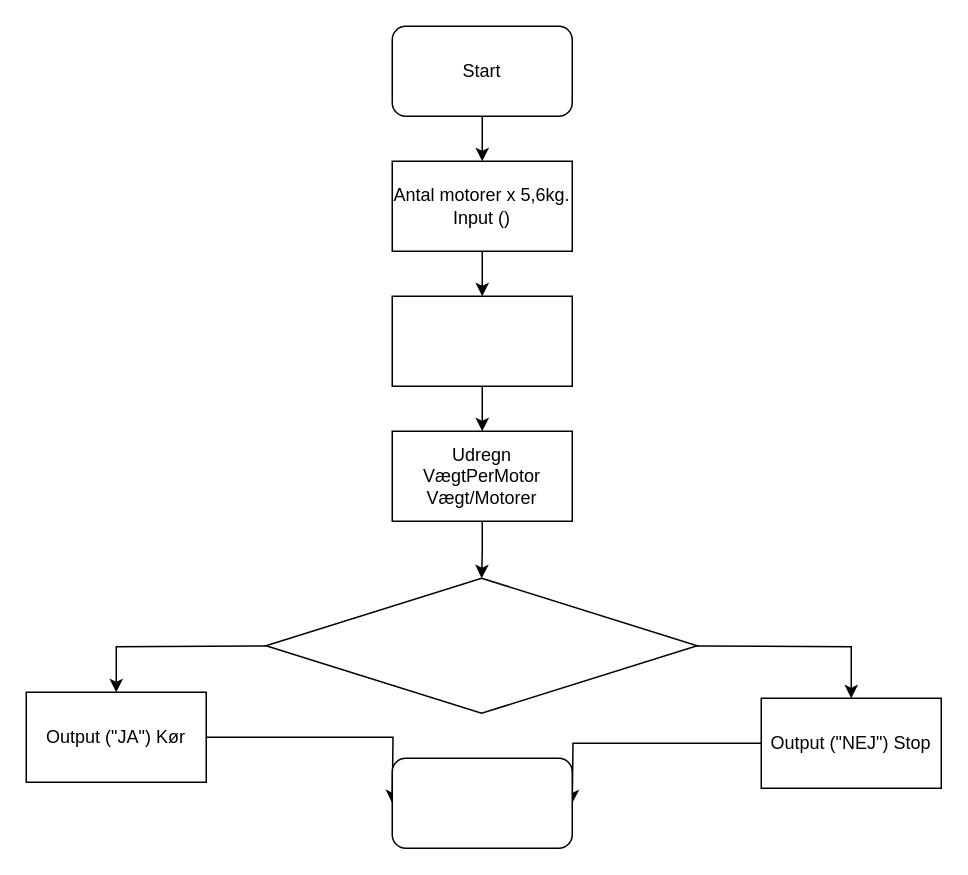
Image size: 968x875. Some labels were removed from this diagram. The shapes that lost their labels are listed below. From the top down, each one's centre as x and y in pixels, then its label:
point (481, 340): Vægt på pakker Input ()
point (480, 645): Vægt pr. motor =/> 5,6 kg.?
point (481, 802): Slut
